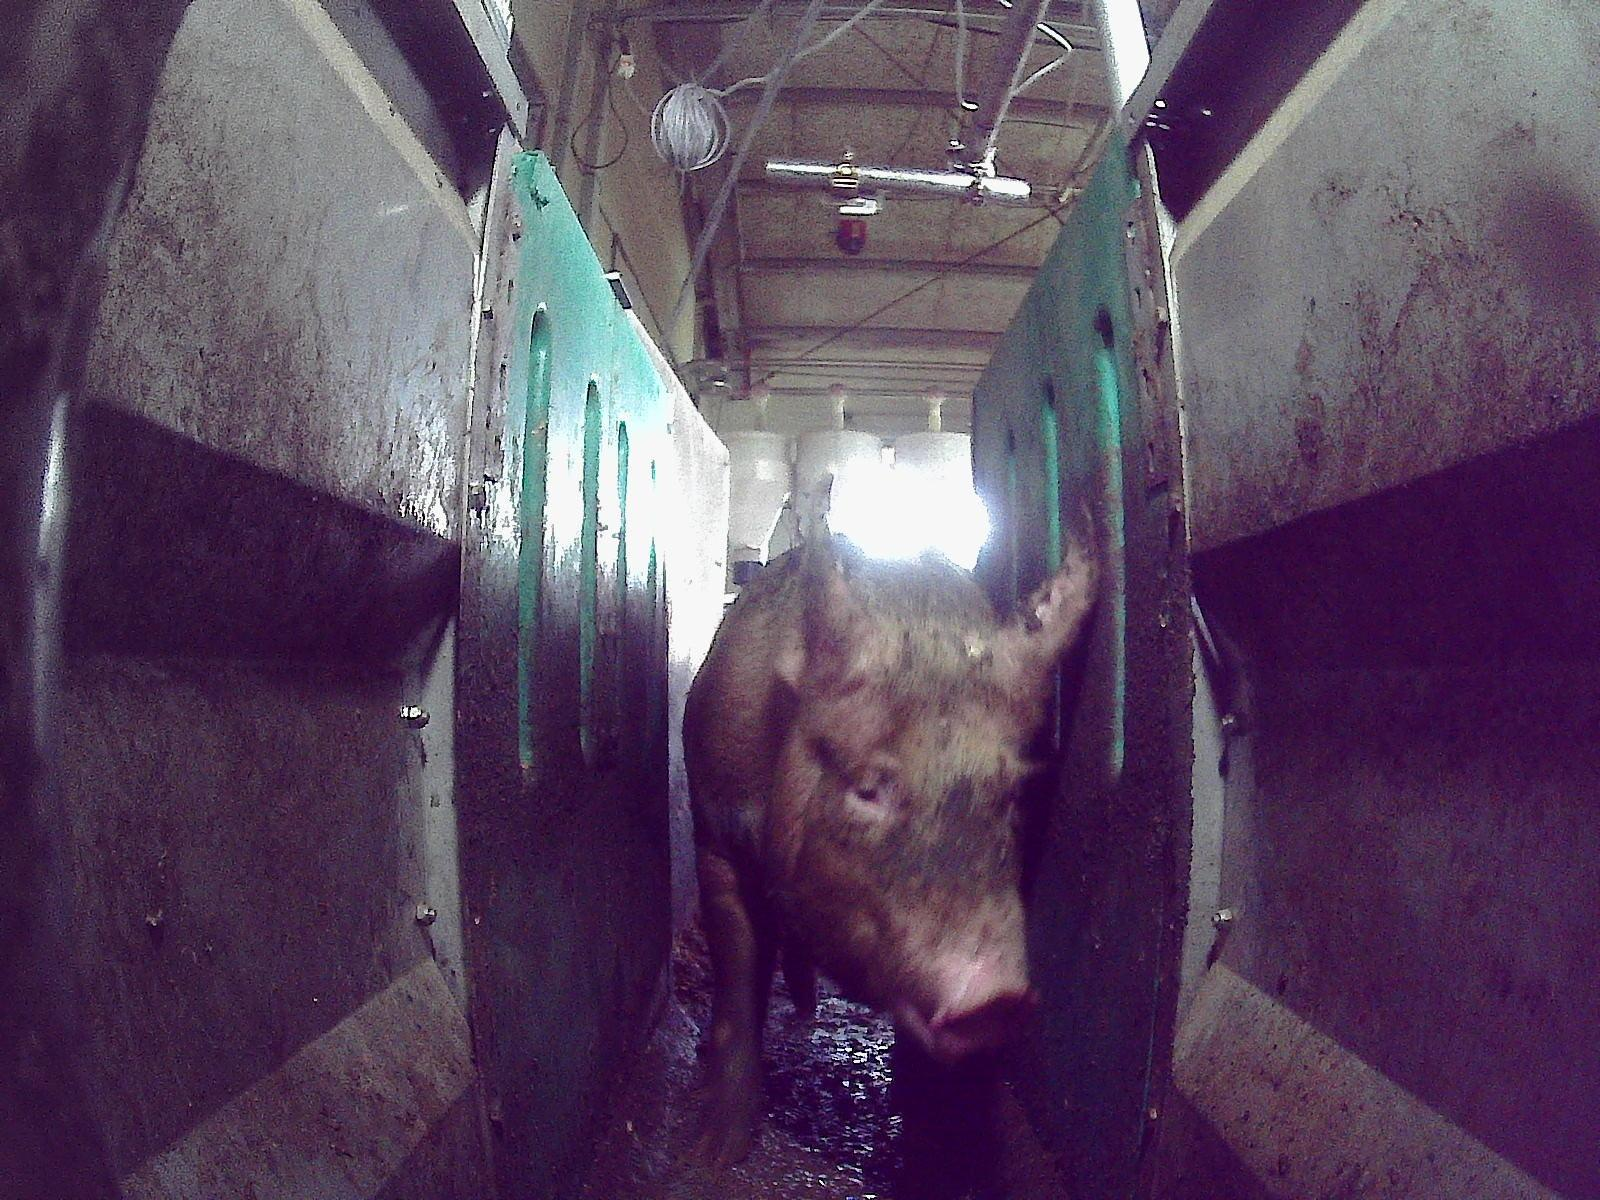Face: (786, 651, 1043, 1059)
